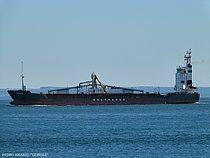Ship: (7, 47, 202, 107)
